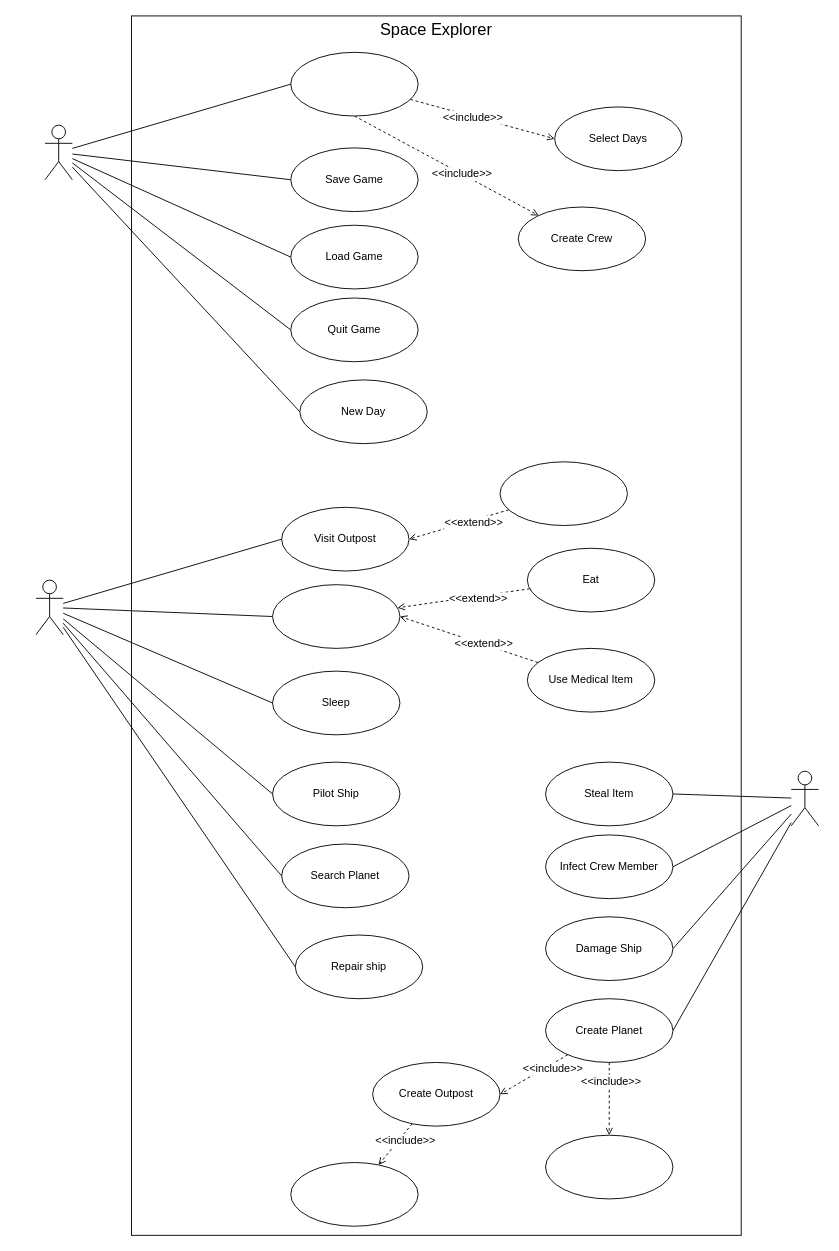
The diagram is 839 pixels wide and 1251 high, and some of its shapes have lost their labels. The centre of each missing label's shape, as x and y in pixels:
"Crew Member" belongs at point 49,607.
"Generate Outpost Name" belongs at point 354,1194.
"Generate Planet Name" belongs at point 609,1166.
"Player" belongs at point 58,152.
"Purchase item" belongs at point 563,493.
"Start Game" belongs at point 354,83.
"System" belongs at point 804,798.
"Use Item" belongs at point 336,616.
